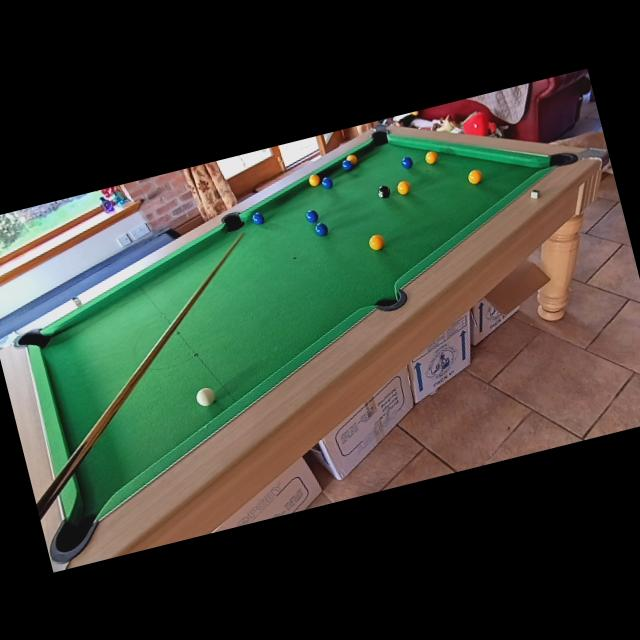Ball: (195, 386, 218, 408), (367, 232, 385, 252), (312, 220, 330, 238), (466, 168, 484, 185), (396, 179, 411, 195), (423, 150, 439, 165), (400, 154, 415, 170), (304, 208, 319, 224), (376, 183, 391, 199), (307, 174, 321, 188), (250, 211, 264, 225), (320, 176, 334, 190), (342, 158, 354, 172), (346, 153, 358, 166)
